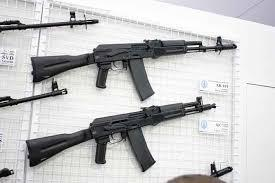larga: (25, 96, 217, 173), (30, 35, 237, 101)
